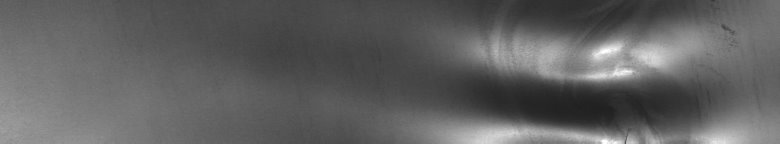ke: (497, 24, 734, 136)
